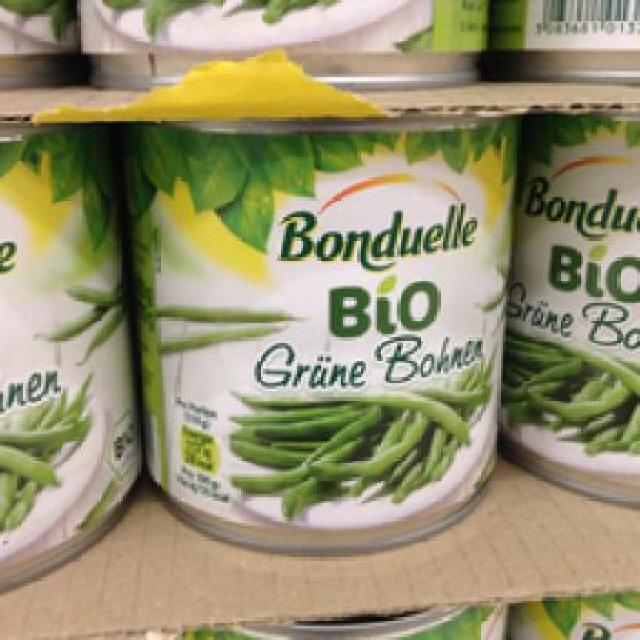Beans: (122, 117, 508, 560), (0, 123, 109, 583), (517, 106, 637, 508)
